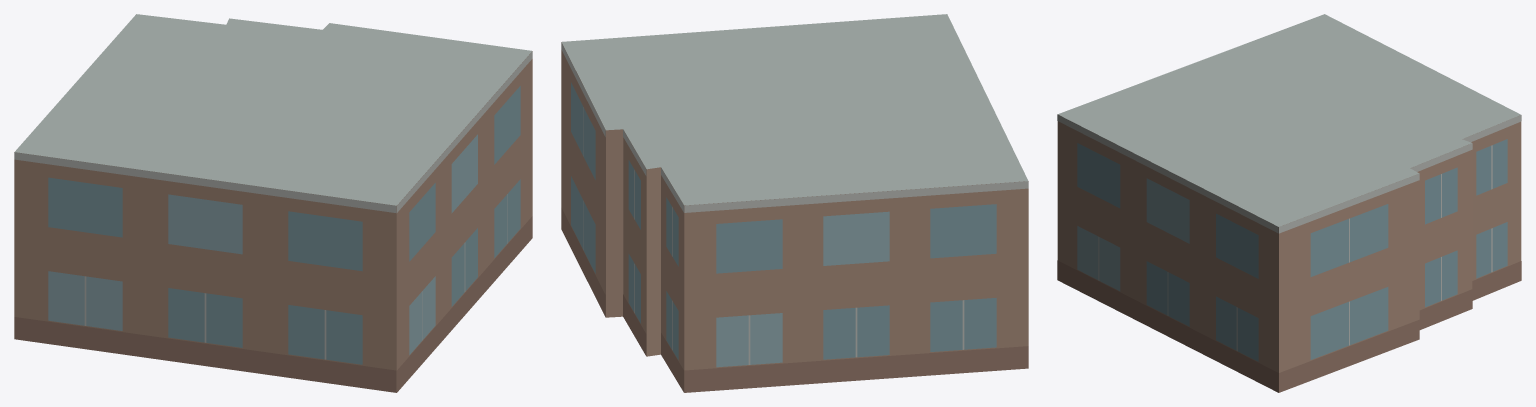
File: survey-upis-32814086.glb
3 views of the same model, side by side, from view 1: azimuth 30°, elevation 25°; view 2: azimuth 150°, elevation 25°; view 3: azimuth 270°, elevation 25° (orthographic). The views are drawn at different scales.
Visible parts, largest first — view 1: survey-upis-32814086.tmp; view 2: survey-upis-32814086.tmp; view 3: survey-upis-32814086.tmp.
Boxes of the visible parts, <box> form: survey-upis-32814086.tmp: <box>14,14,532,392</box>; survey-upis-32814086.tmp: <box>561,14,1028,392</box>; survey-upis-32814086.tmp: <box>1057,14,1521,392</box>.
Bounding box in the file's own units: 16.8 × 6.1 × 15.47.
